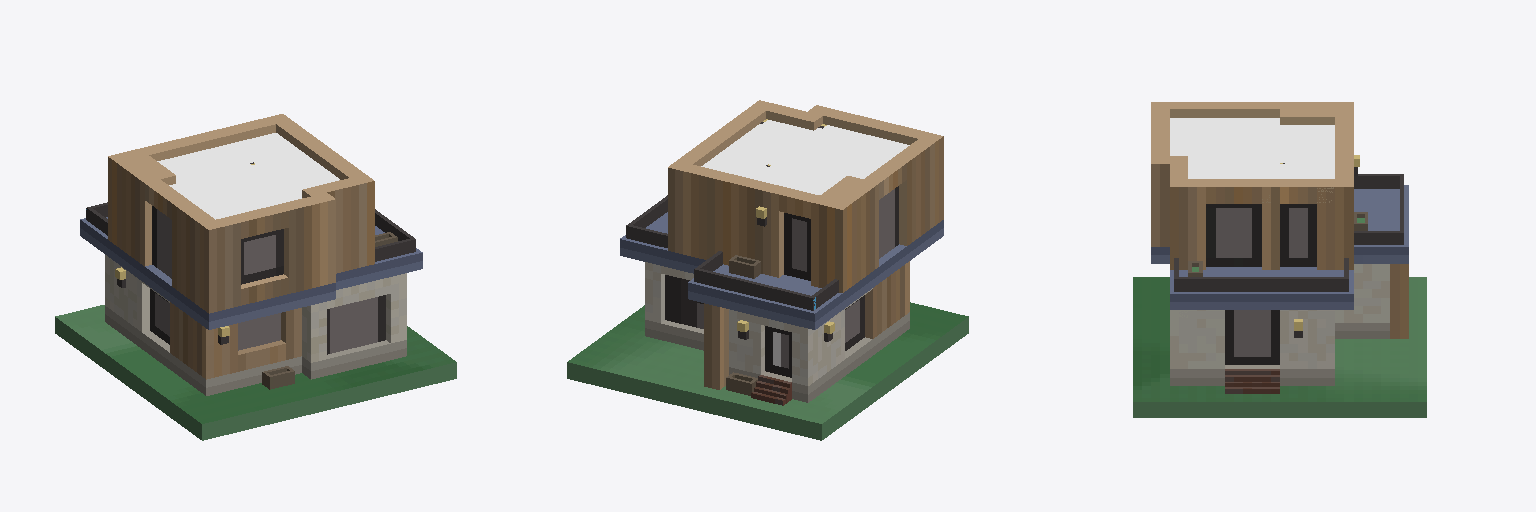
3 views of the same model, side by side, from view 1: azimuth 30°, elevation 25°; view 2: azimuth 150°, elevation 25°; view 3: azimuth 270°, elevation 25° (orthographic).
Parts seen in each view (by area): view 1: cube; view 2: cube; view 3: cube.
Part boxes in pixels (x1,y1,x2,y2): cube: (55,114,456,440); cube: (567,100,968,440); cube: (1133,102,1426,417).
Size of the model in its own units: 1 by 0.75 by 1.
3 materials, 1 textured.